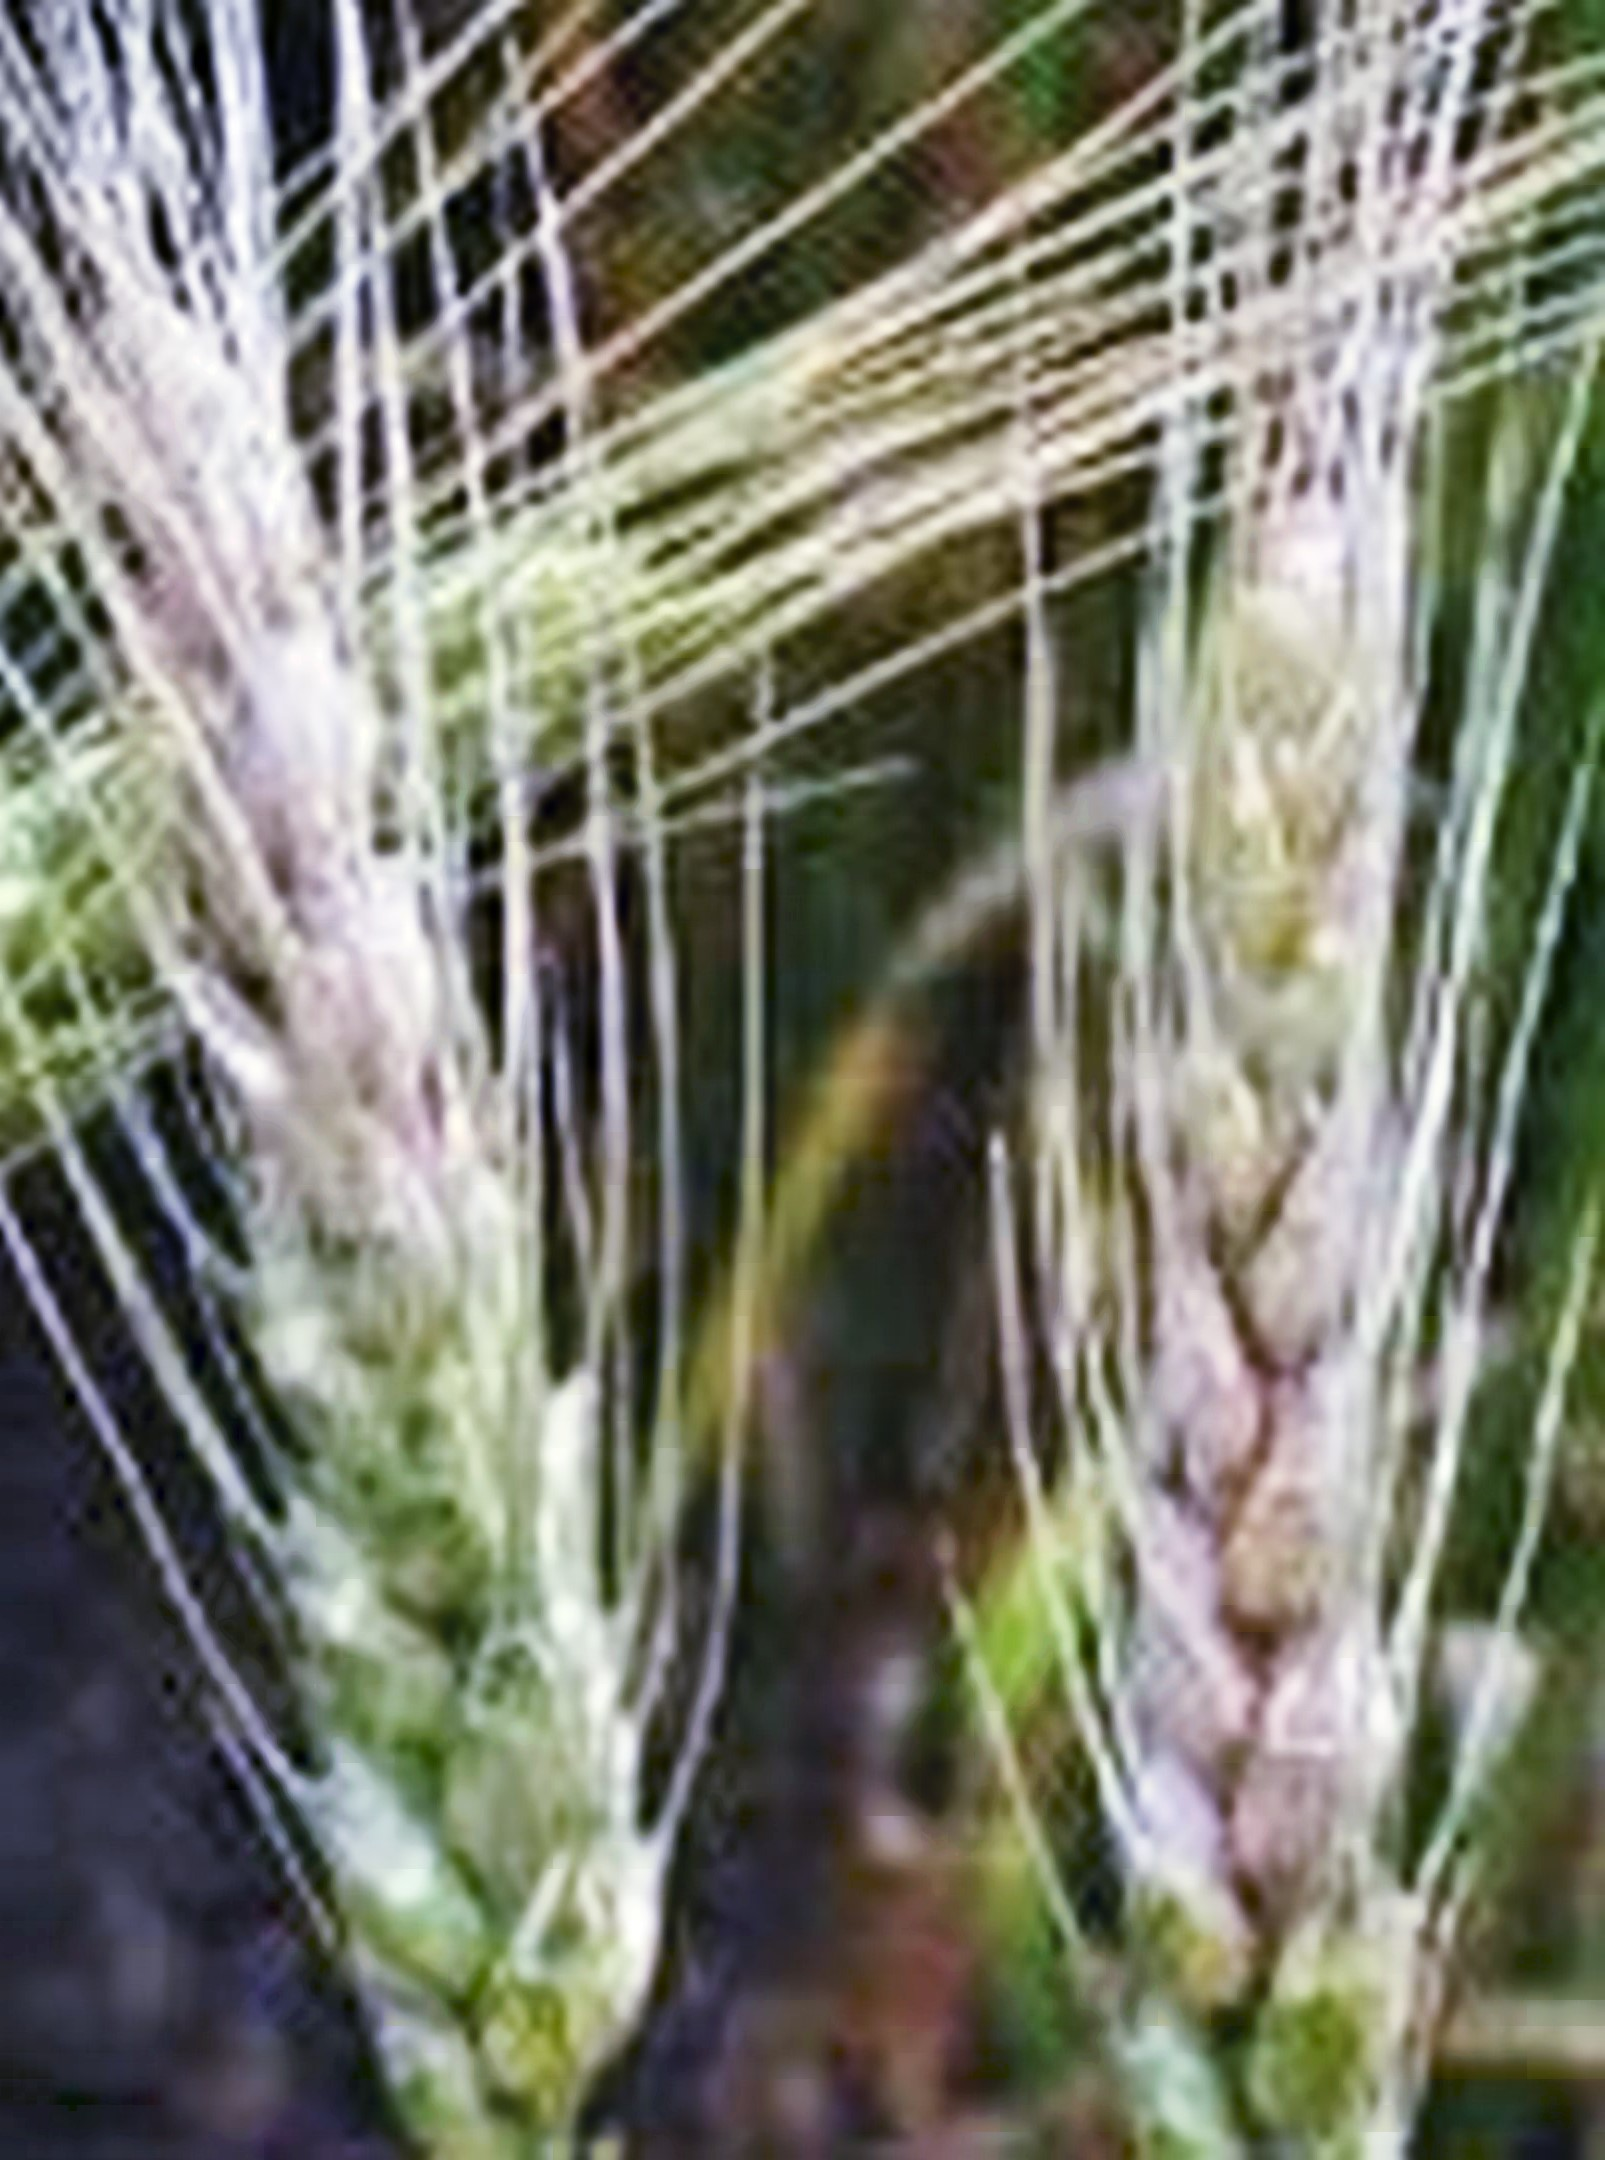Wheat scab: (143, 494, 727, 2104), (990, 481, 1519, 2081)
